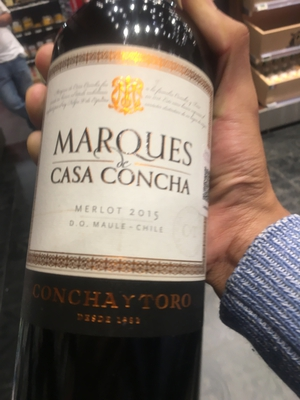marques de casa concha merlot: (22, 12, 231, 400)
